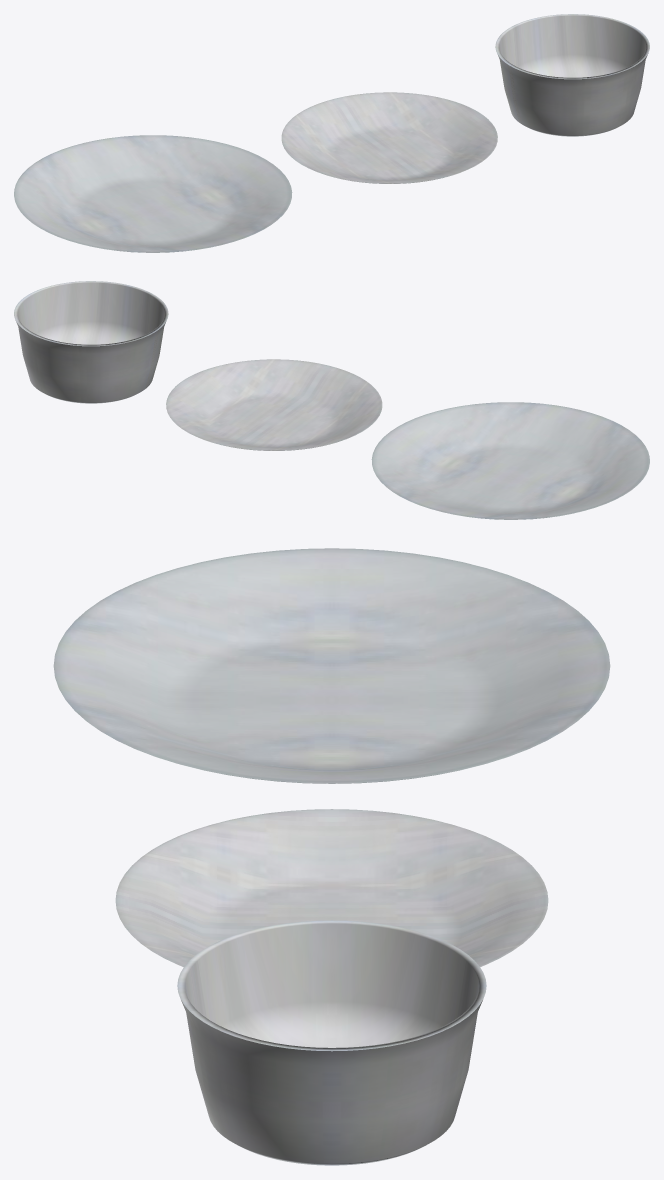
The model's file is MAR-04.glb.
3 views of the same model, one above another, from view 1: azimuth 30°, elevation 25°; view 2: azimuth 150°, elevation 25°; view 3: azimuth 270°, elevation 25° (orthographic). The views are drawn at different scales.
Size of the model in its own units: 0.68 by 0.07 by 0.27.
Materials: 6 (6 with a texture image).
